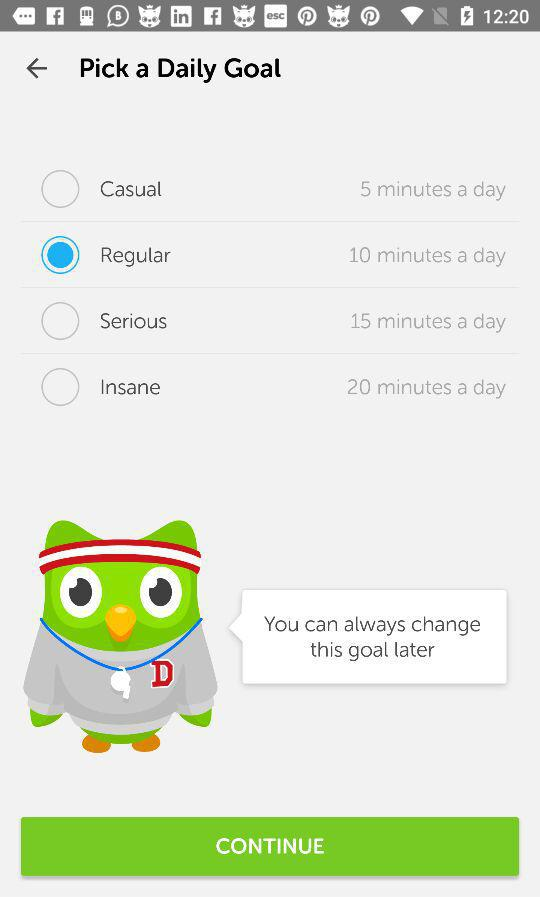CheckedTextView: (42, 236, 172, 276), (42, 302, 168, 342), (41, 367, 162, 408), (41, 170, 165, 209)
Icon: (27, 58, 49, 80)
Image: (23, 520, 507, 755)
Text: (81, 58, 282, 84), (347, 378, 506, 400), (348, 247, 506, 269), (351, 312, 507, 334), (360, 180, 507, 202), (101, 246, 172, 268), (101, 312, 168, 330), (101, 181, 163, 198), (102, 379, 161, 396)
TextButton: (20, 816, 520, 878)
UpperTaskBar: (1, 1, 540, 33)
